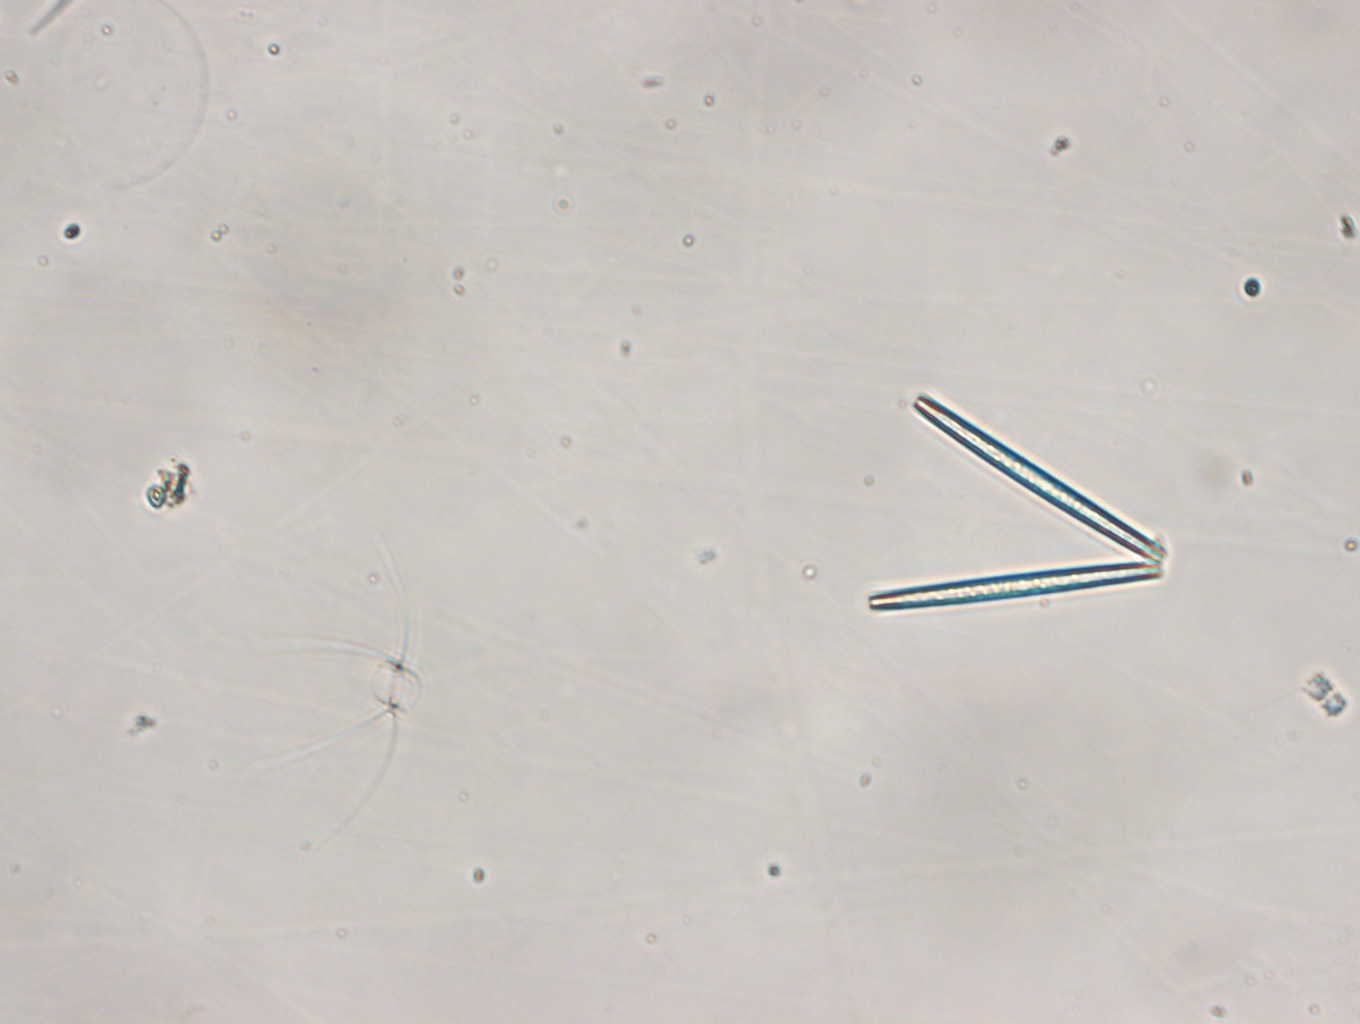thalassionema nitzschioides: (858, 388, 1170, 614)
